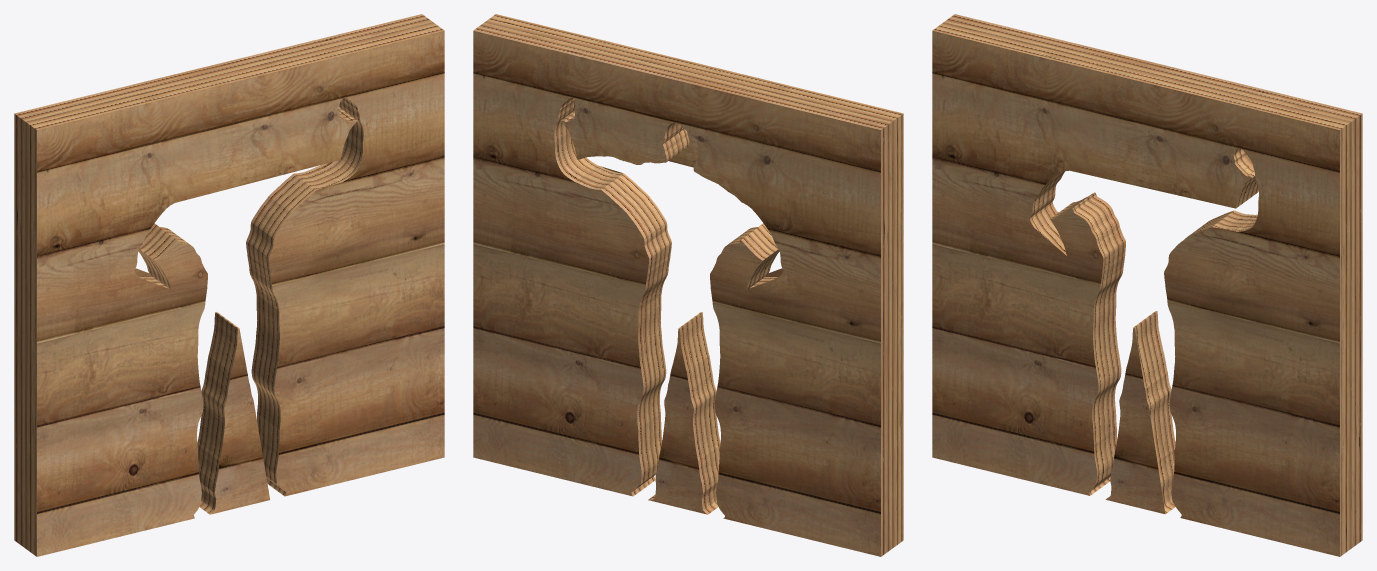
The model's file is bicep flex up and down.FBX.
The picture shows the model from 3 angles, left to right: view 1: azimuth 30°, elevation 25°; view 2: azimuth 150°, elevation 25°; view 3: azimuth 330°, elevation 25°; orthographic projection.
Parts seen in each view (by area): view 1: Object002; view 2: Object002; view 3: Object002.
Part boxes in pixels (x1,y1,x2,y2): Object002: (14, 14, 444, 556); Object002: (473, 14, 903, 556); Object002: (932, 14, 1362, 556).
Bounding box in the file's own units: 2 × 2 × 0.1932.
Materials: 1 (1 with a texture image).
